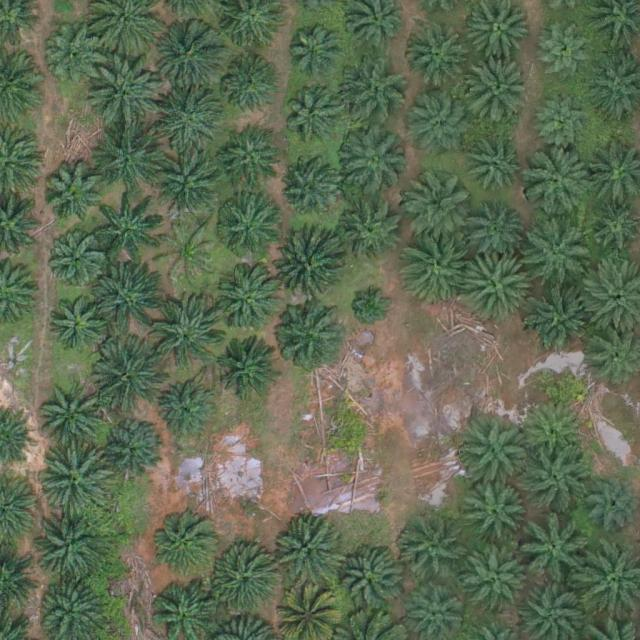Dead: (159, 219, 221, 282)
Healthy: (460, 251, 531, 322), (401, 89, 472, 160), (460, 419, 531, 490), (94, 342, 165, 413), (521, 148, 591, 219), (519, 211, 589, 282), (527, 284, 597, 355), (466, 55, 536, 126), (402, 23, 472, 94), (401, 164, 472, 234), (396, 235, 467, 305), (520, 517, 590, 588), (524, 444, 594, 515), (334, 545, 404, 616), (204, 546, 274, 617), (274, 232, 344, 303), (216, 264, 286, 335), (154, 83, 224, 154), (155, 154, 225, 225), (151, 507, 221, 578), (93, 192, 163, 263), (96, 120, 166, 191), (89, 59, 159, 130), (41, 375, 111, 446), (34, 515, 104, 586), (159, 19, 229, 90), (462, 538, 532, 608), (396, 515, 466, 585), (273, 519, 343, 589), (341, 54, 411, 124), (337, 127, 407, 197), (275, 305, 345, 375), (152, 298, 222, 368), (95, 263, 165, 333), (43, 447, 113, 517), (467, 130, 530, 193), (465, 484, 528, 547), (342, 201, 405, 264), (219, 132, 282, 195), (100, 418, 163, 481), (44, 230, 107, 293), (465, 201, 527, 264), (523, 401, 585, 464), (278, 159, 340, 222), (215, 195, 277, 258), (42, 163, 105, 225), (47, 290, 109, 353), (44, 24, 107, 86), (217, 338, 279, 400), (156, 384, 218, 446), (535, 95, 590, 150), (285, 88, 340, 143), (221, 59, 276, 114), (287, 24, 342, 79), (537, 26, 591, 81)
Small: (349, 282, 396, 329)
